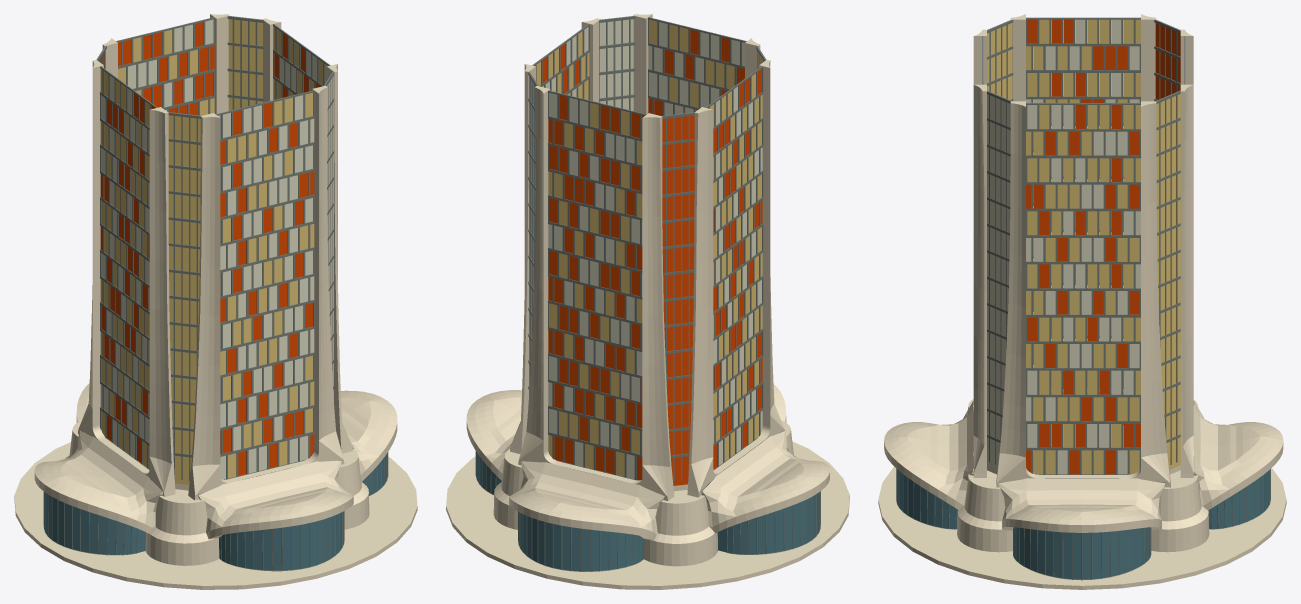
File: stamfordtower.glb
3 renders of one model, left to right at view 1: azimuth 30°, elevation 25°; view 2: azimuth 150°, elevation 25°; view 3: azimuth 270°, elevation 25°, orthographic.
Parts seen in each view (by area): view 1: orig.004, Cube.007, windows1.002, Circle, orig.003, bottomwindow, Plane.003, Cube.002, BezierCircle.002, windows2.005, windows2.006, BezierCircle.008 (+20 smaller); view 2: orig.001, windows1.003, Cube.005, orig.003, Circle, bottomwindow, Plane.002, Cube.002, BezierCircle.011, windows2.008, windows2.007, BezierCircle.008 (+19 smaller); view 3: windows1, orig.002, Cube.003, Circle, bottomwindow, windows2.001, windows2.002, BezierCircle.005, Plane, Plane.001, orig.001, orig.004 (+16 smaller).
Boxes of the visible parts, bbox=[...] form: orig.004: bbox=[188, 85, 344, 500]; Cube.007: bbox=[216, 90, 314, 479]; windows1.002: bbox=[218, 95, 314, 479]; Circle: bbox=[14, 442, 417, 589]; orig.003: bbox=[78, 60, 175, 496]; bottomwindow: bbox=[44, 452, 387, 570]; Plane.003: bbox=[168, 115, 200, 484]; Cube.002: bbox=[100, 66, 157, 469]; BezierCircle.002: bbox=[198, 460, 353, 539]; windows2.005: bbox=[220, 92, 314, 478]; windows2.006: bbox=[220, 102, 314, 475]; BezierCircle.008: bbox=[34, 431, 162, 533]; orig.001: bbox=[518, 86, 674, 500]; windows1.003: bbox=[548, 95, 644, 480]; Cube.005: bbox=[548, 90, 646, 480]; orig.003: bbox=[687, 59, 784, 497]; Circle: bbox=[446, 441, 849, 589]; bottomwindow: bbox=[476, 452, 820, 571]; Plane.002: bbox=[662, 115, 694, 485]; Cube.002: bbox=[705, 66, 763, 469]; BezierCircle.011: bbox=[509, 461, 664, 540]; windows2.008: bbox=[548, 92, 642, 479]; windows2.007: bbox=[548, 103, 642, 476]; BezierCircle.008: bbox=[701, 430, 829, 533]; windows1: bbox=[1026, 105, 1140, 474]; orig.002: bbox=[996, 101, 1170, 487]; Cube.003: bbox=[1026, 103, 1140, 474]; Circle: bbox=[878, 424, 1286, 589]; bottomwindow: bbox=[896, 424, 1270, 579]; windows2.001: bbox=[1026, 105, 1140, 474]; windows2.002: bbox=[1026, 105, 1140, 474]; BezierCircle.005: bbox=[999, 478, 1164, 532]; Plane: bbox=[987, 94, 1010, 469]; Plane.001: bbox=[1156, 94, 1180, 469]; orig.001: bbox=[1180, 29, 1193, 477]; orig.004: bbox=[973, 29, 986, 477].
Size of the model in its own units: 10.76 by 12.89 by 10.76.
